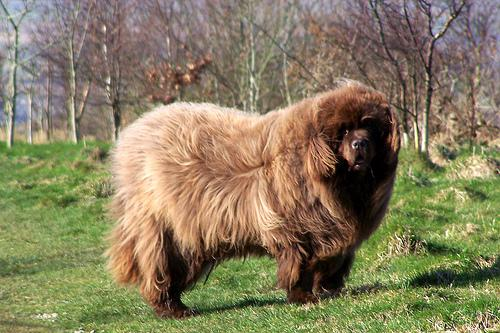dog-newfoundland: (306, 86, 400, 179)
